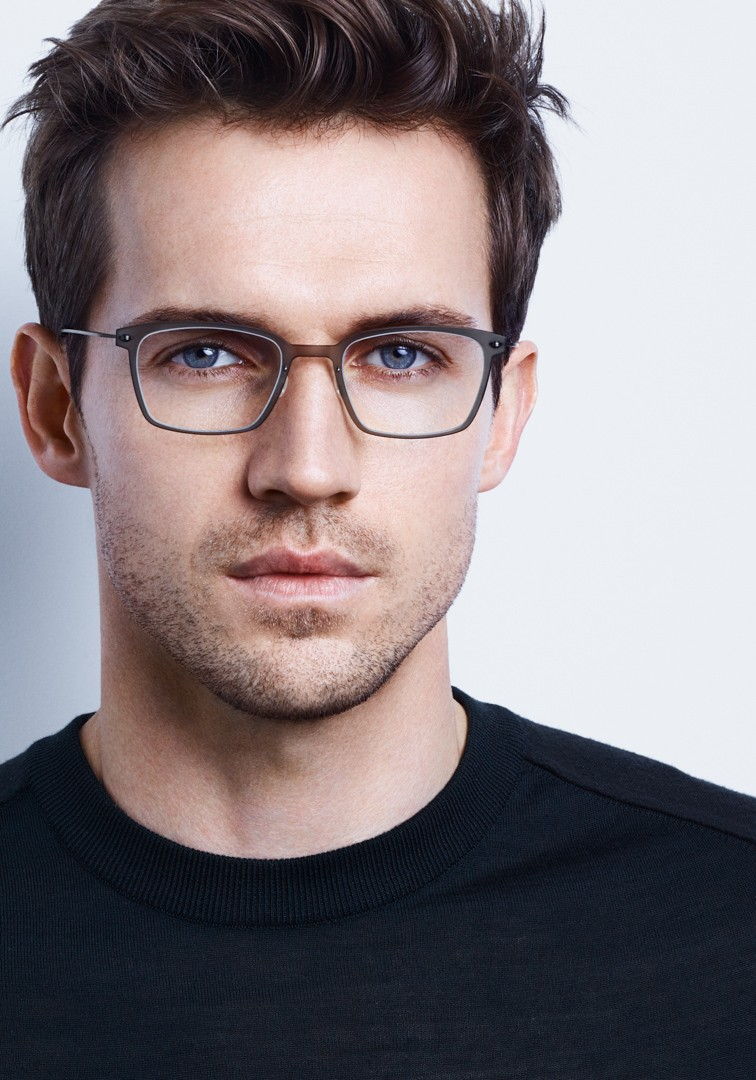llen: (341, 330, 486, 436)
rlen: (135, 326, 284, 432)
